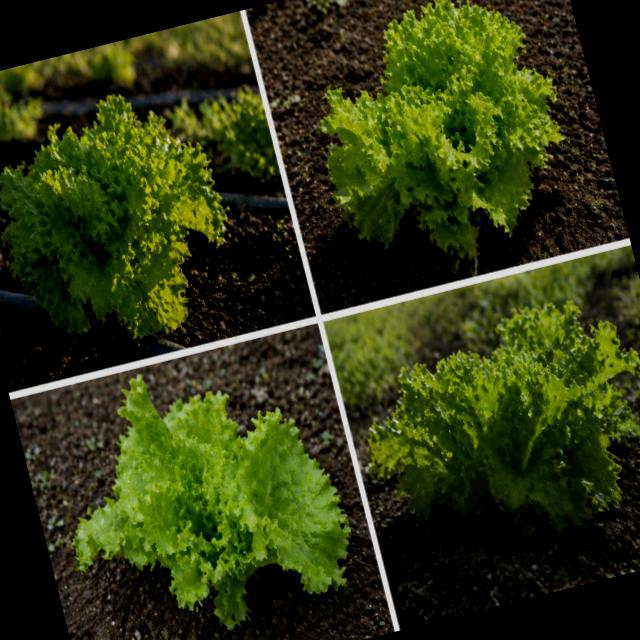inmadura: (73, 374, 350, 628), (321, 0, 564, 258), (368, 306, 639, 535), (0, 95, 226, 337)
